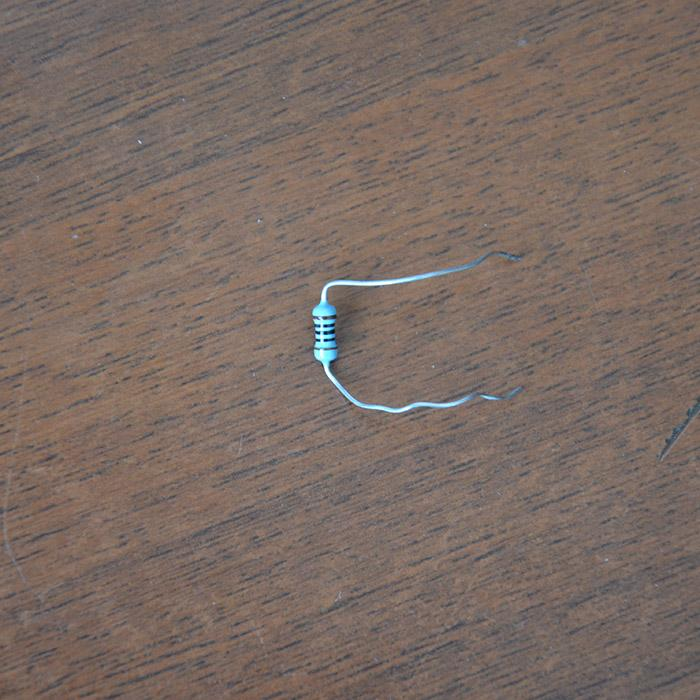resistor: (311, 299, 342, 365)
